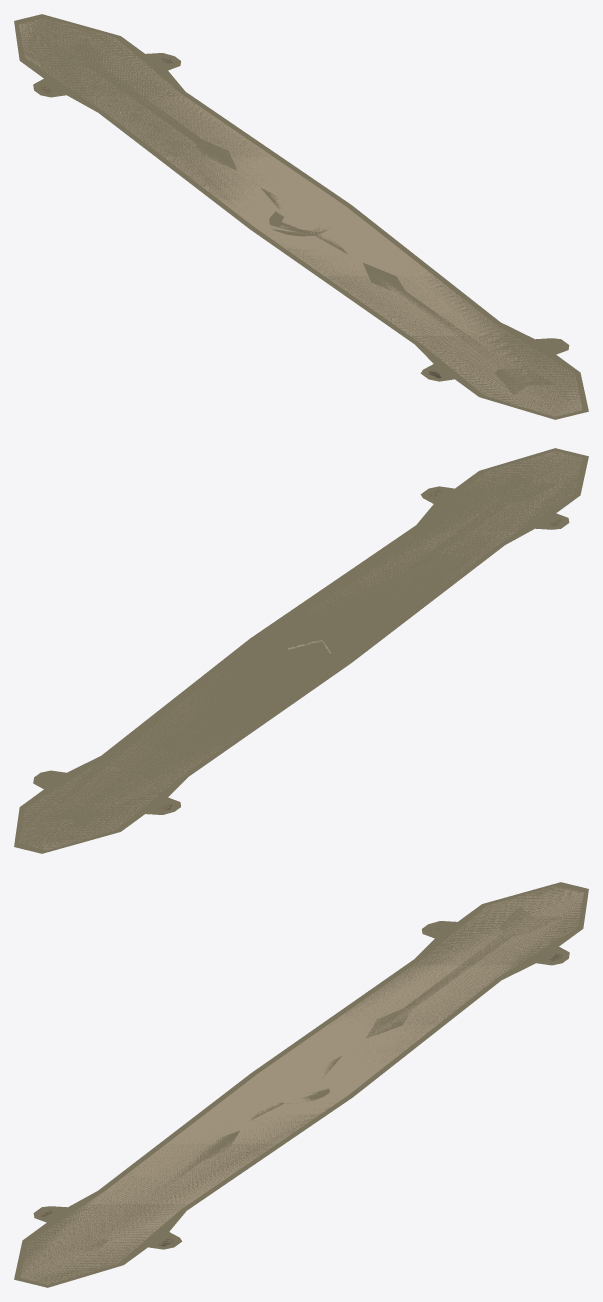
3 renders of one model, top to bottom at view 1: azimuth 30°, elevation 25°; view 2: azimuth 150°, elevation 25°; view 3: azimuth 330°, elevation 25°, orthographic.
Bounding box in the file's own units: 0.3906 × 0 × 2.62.
